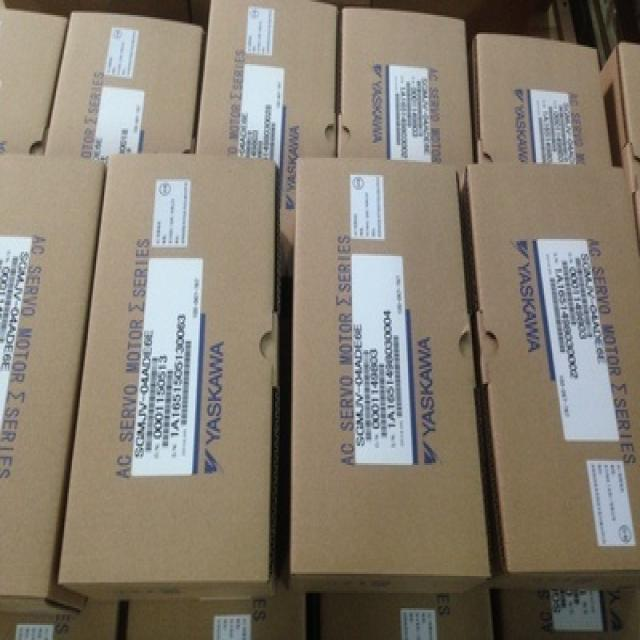box: (56, 154, 280, 604), (288, 158, 490, 597), (461, 164, 640, 591), (0, 154, 106, 614), (195, 0, 338, 277), (336, 6, 474, 196), (43, 11, 206, 164), (469, 34, 613, 166), (123, 570, 309, 640), (322, 576, 494, 640), (499, 572, 640, 640), (600, 45, 640, 252), (0, 597, 128, 640)
